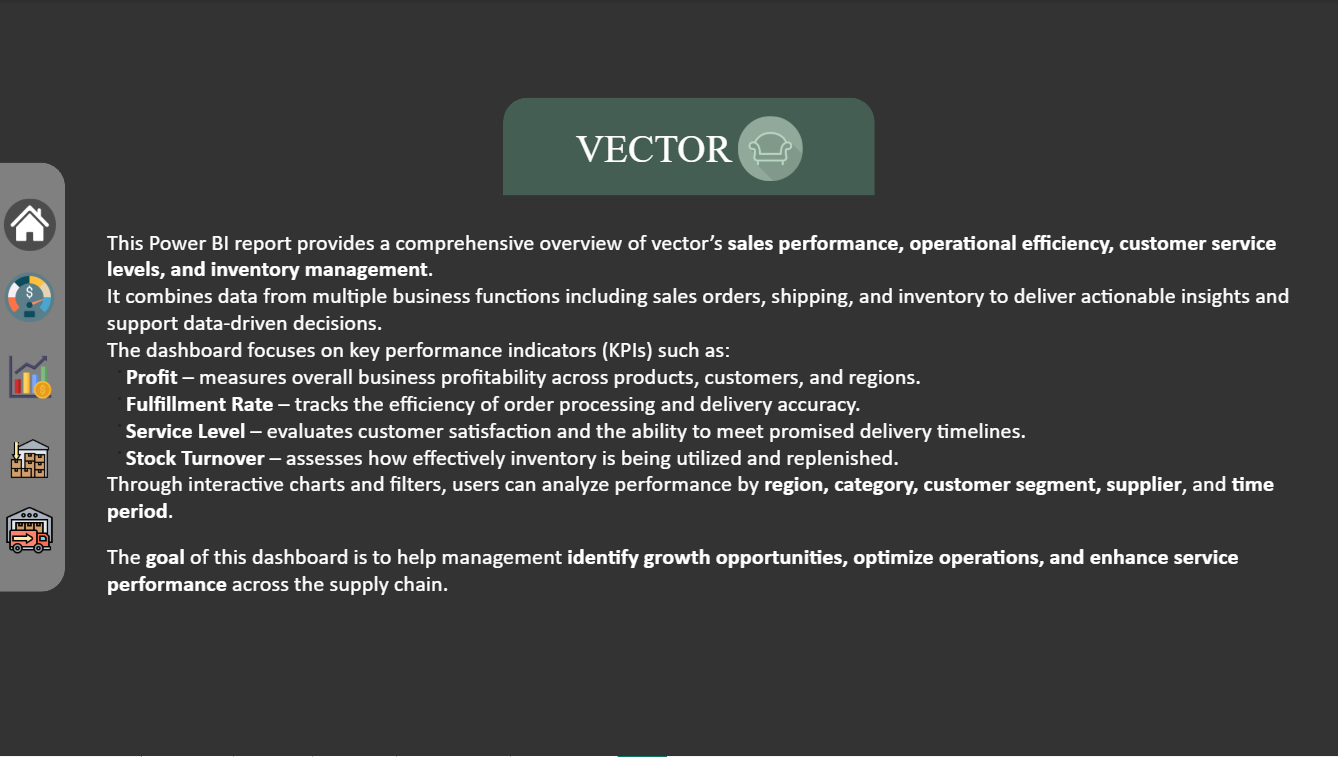

Layout of this report page (visuals, bound fields, positions):
{"tool":"powerbi","page":{"name":"Home","canvas":[1280,720],"ordinal":0},"visuals":[{"type":"shape","box":[0,154.8,63.9,409],"z":0,"group":"g2"},{"type":"textbox","box":[98.8,195.2,1166.7,464.3],"z":0},{"type":"group","id":"g1","title":"Group 2","box":[481.3,92.5,354,93.3],"z":1000},{"type":"image","box":[0.1,185,60.3,59.1],"z":1000,"group":"g2"},{"type":"shape","box":[481.3,92.5,354,93.3],"z":1500,"group":"g1"},{"type":"textbox","box":[546.1,114.9,172.5,61.5],"z":2000,"group":"g1"},{"type":"group","id":"g2","title":"Group 1","box":[0,154.8,64.3,409.5],"z":2000},{"type":"image","box":[0.1,252.5,60.3,61.5],"z":2000,"group":"g2"},{"type":"image","box":[0.1,476.9,60.3,55.5],"z":3000,"group":"g2"},{"type":"image","box":[1.3,413,57.9,47.1],"z":4000,"group":"g2"},{"type":"image","box":[1.9,333.4,56.7,51.9],"z":5000,"group":"g2"},{"type":"image","box":[700.5,105.2,71.2,71.2],"z":5001,"group":"g1"}]}

Visuals, with their boxes on the page's 1280x720 design canvas (x1, y1, x2, y2). These are canvas units, not pixel positions in the 1338x757 screenshot, which may show the page scaled, cropped or inside an application window:
shape: bbox(0, 155, 64, 564)
textbox: bbox(99, 195, 1266, 660)
"Group 2" group: bbox(481, 92, 835, 186)
image: bbox(0, 185, 60, 244)
shape: bbox(481, 92, 835, 186)
textbox: bbox(546, 115, 719, 176)
"Group 1" group: bbox(0, 155, 64, 564)
image: bbox(0, 252, 60, 314)
image: bbox(0, 477, 60, 532)
image: bbox(1, 413, 59, 460)
image: bbox(2, 333, 59, 385)
image: bbox(700, 105, 772, 176)
